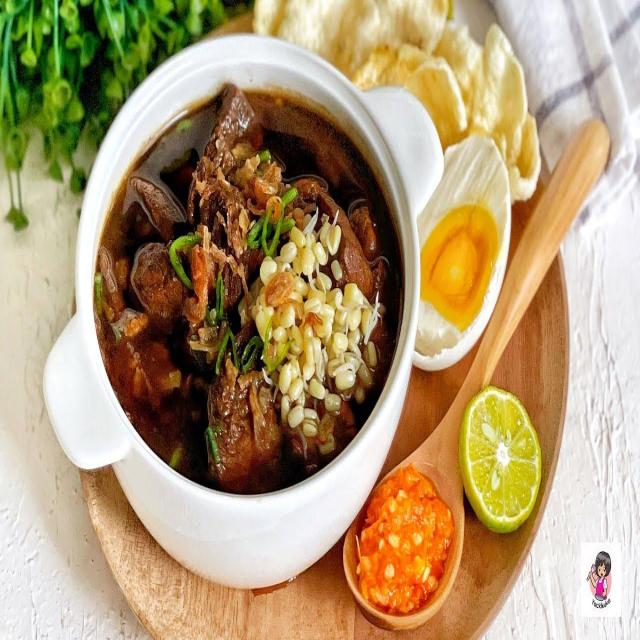Rawon: (89, 72, 396, 474)
